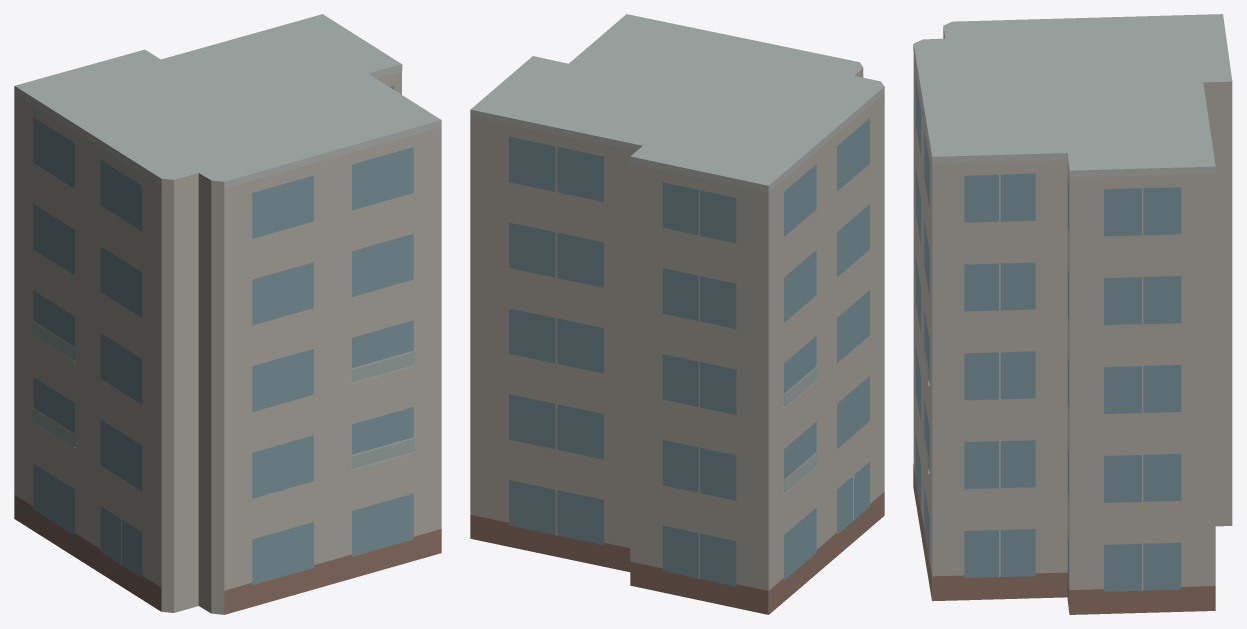
The model's file is survey-upis-32529719.glb.
The picture shows the model from 3 angles, left to right: view 1: azimuth 30°, elevation 25°; view 2: azimuth 150°, elevation 25°; view 3: azimuth 270°, elevation 25°; orthographic projection. The views are drawn at different scales.
Visible parts, largest first — view 1: survey-upis-32529719.tmp; view 2: survey-upis-32529719.tmp; view 3: survey-upis-32529719.tmp.
Part boxes in pixels (left/top/right/bottom): survey-upis-32529719.tmp: left=14, top=14, right=441, bottom=614; survey-upis-32529719.tmp: left=470, top=14, right=884, bottom=614; survey-upis-32529719.tmp: left=913, top=14, right=1232, bottom=614.
Size of the model in its own units: 11.5 by 15.2 by 9.9.
